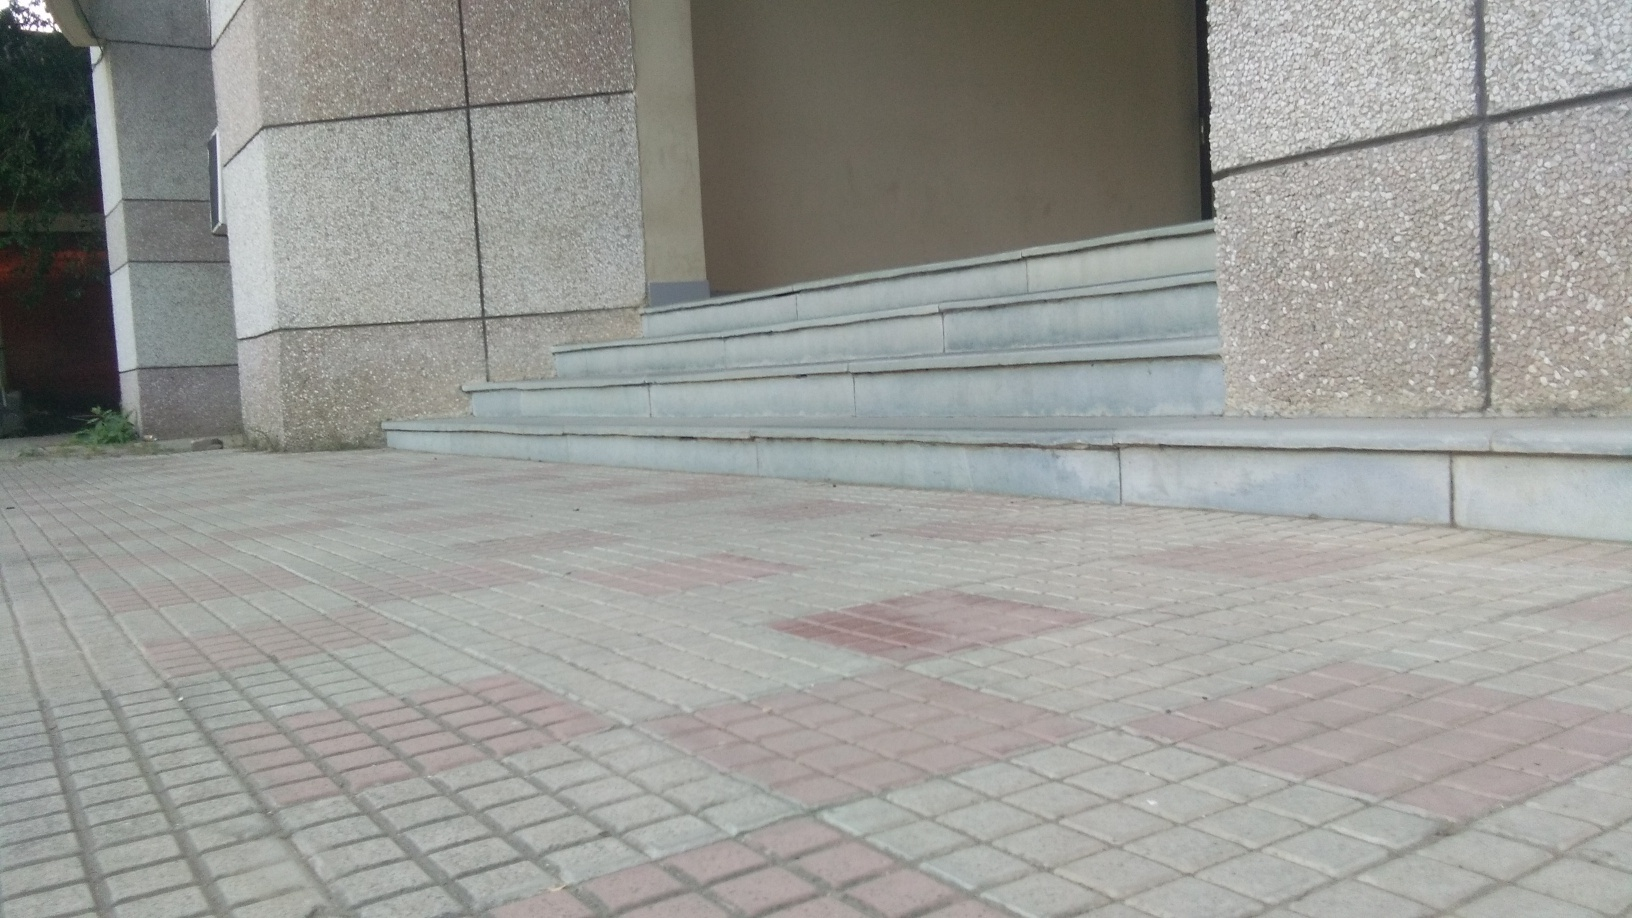stairs_up: (380, 208, 1211, 503)
